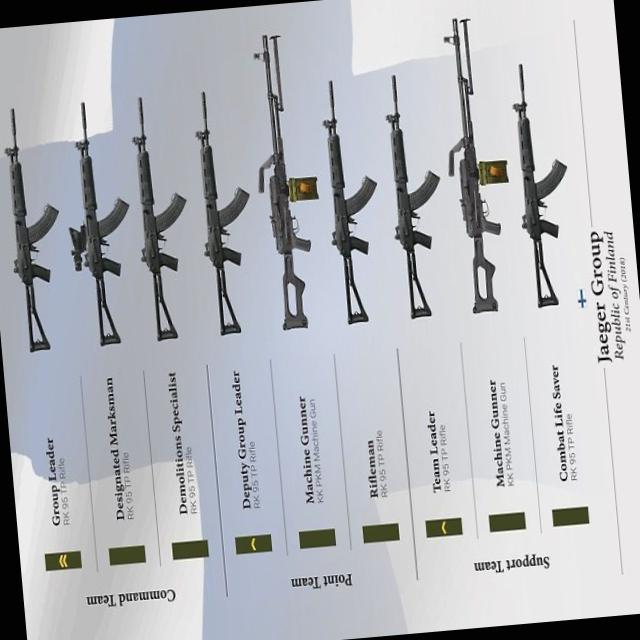long weapon: (420, 8, 512, 322), (238, 22, 317, 350), (49, 80, 138, 356), (0, 81, 86, 364), (495, 54, 581, 324), (300, 59, 380, 342), (364, 54, 444, 336), (111, 69, 186, 348), (181, 67, 248, 349)
